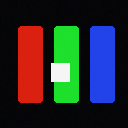1 square: (51, 63, 69, 81)
